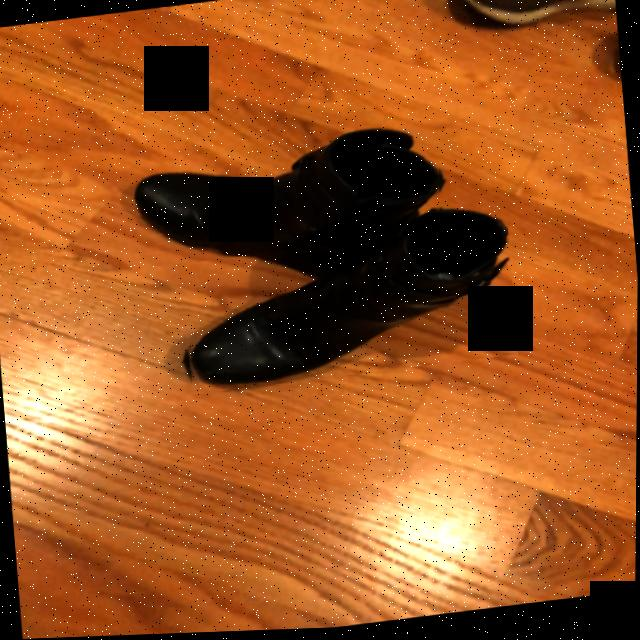shoe: (189, 214, 509, 390), (135, 133, 441, 254)
